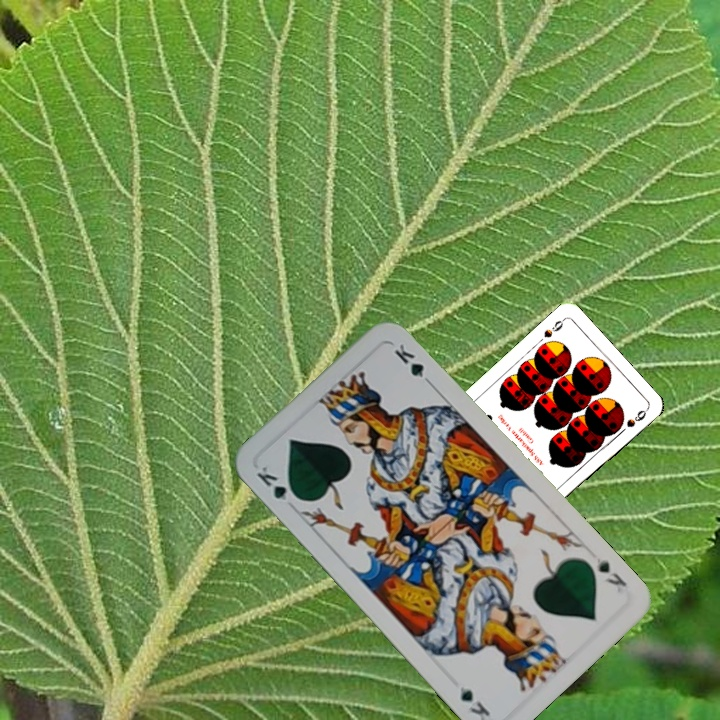GK: (253, 462, 303, 504), (586, 549, 630, 596)
S9: (540, 314, 567, 341)
